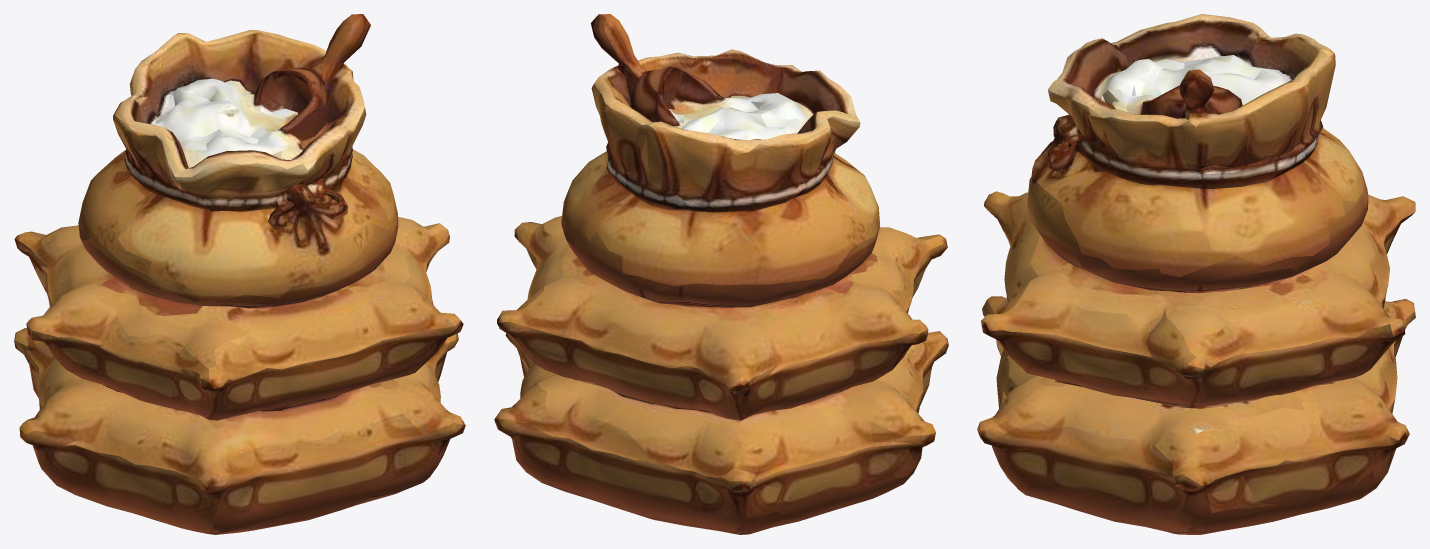
The model's file is flour_sacks.glb.
The picture shows the model from 3 angles, left to right: view 1: azimuth 30°, elevation 25°; view 2: azimuth 150°, elevation 25°; view 3: azimuth 270°, elevation 25°; orthographic projection. The views are drawn at different scales.
Visible parts, largest first — view 1: flour_sacks2; view 2: flour_sacks2; view 3: flour_sacks2.
Boxes of the visible parts, x1=… form: flour_sacks2: x1=14, y1=14, x2=465, y2=534; flour_sacks2: x1=494, y1=14, x2=948, y2=534; flour_sacks2: x1=977, y1=14, x2=1415, y2=534.
Size of the model in its own units: 1 by 0.9949 by 0.8333.
Materials: 1 (1 with a texture image).
